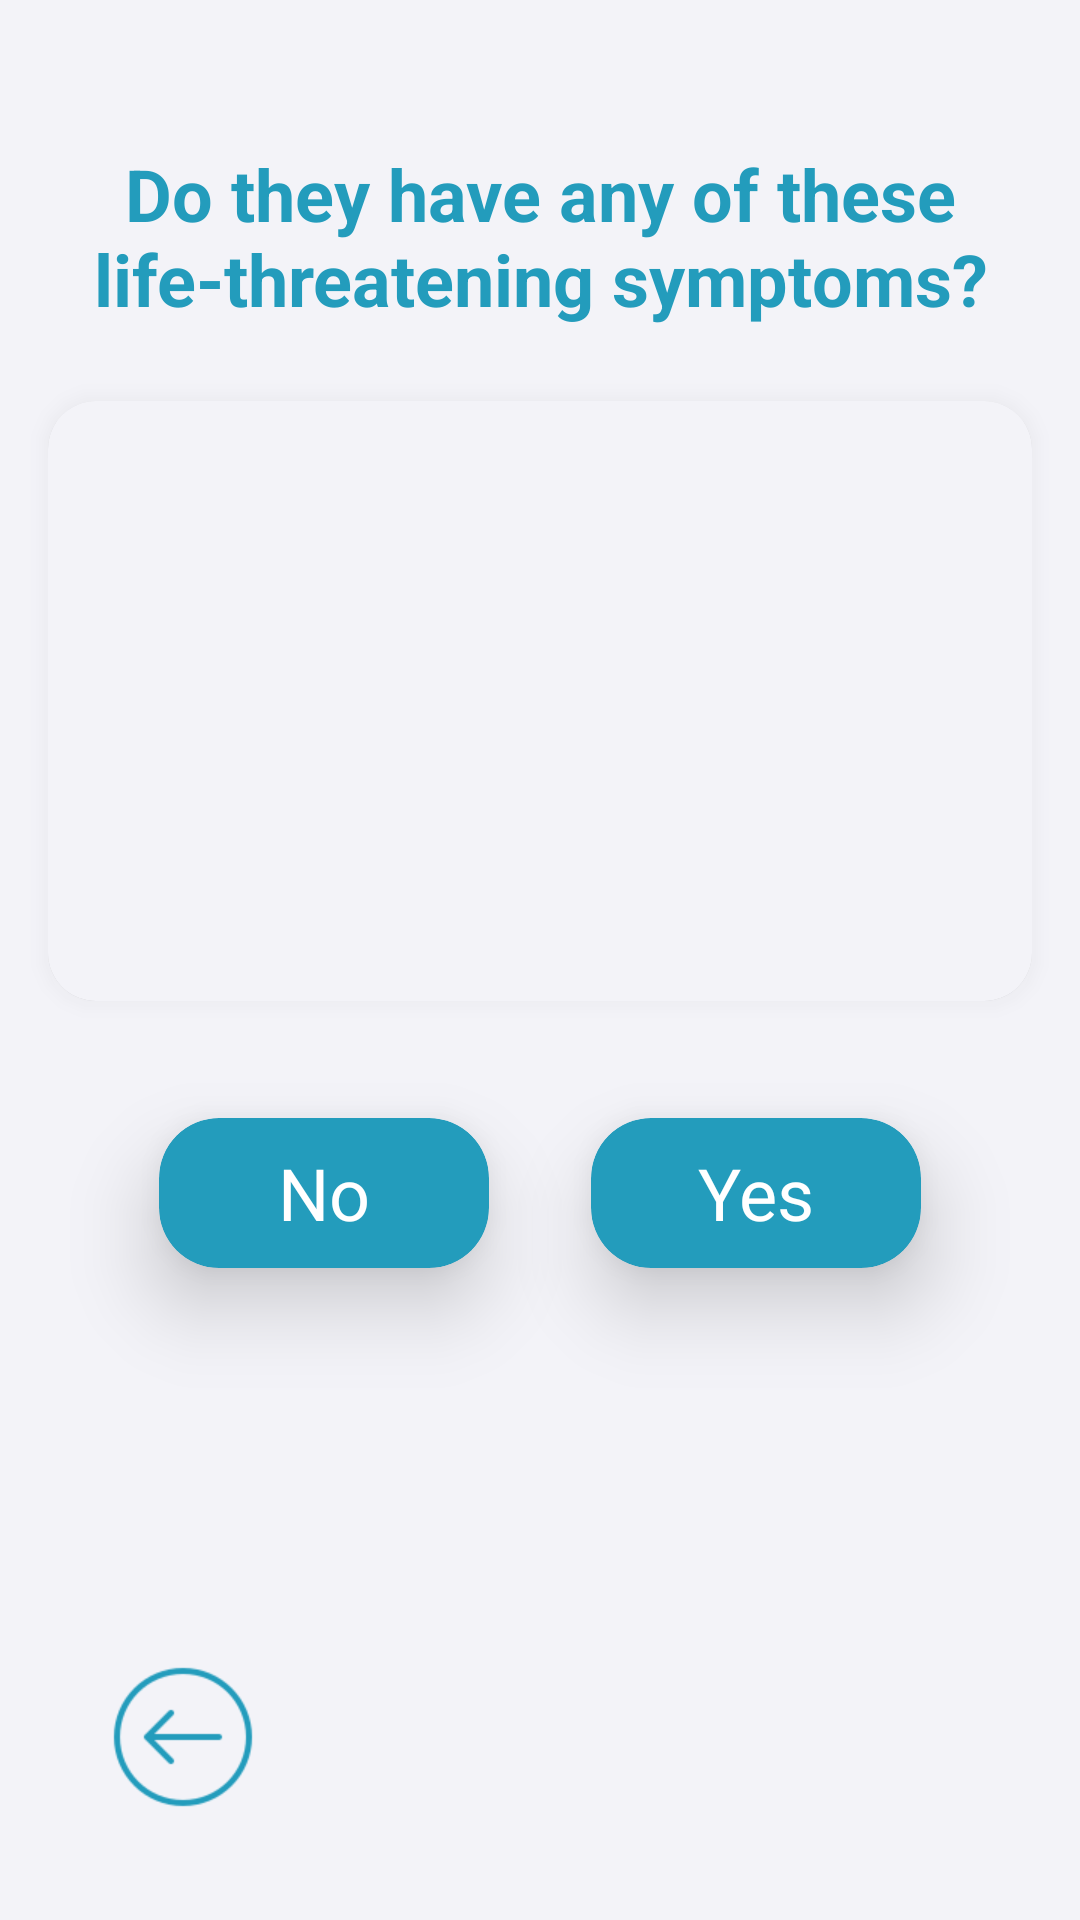

Point at icon controls on the screen. Image size 1080 x 1920, points as [x,y].
prev: [183,1737]
